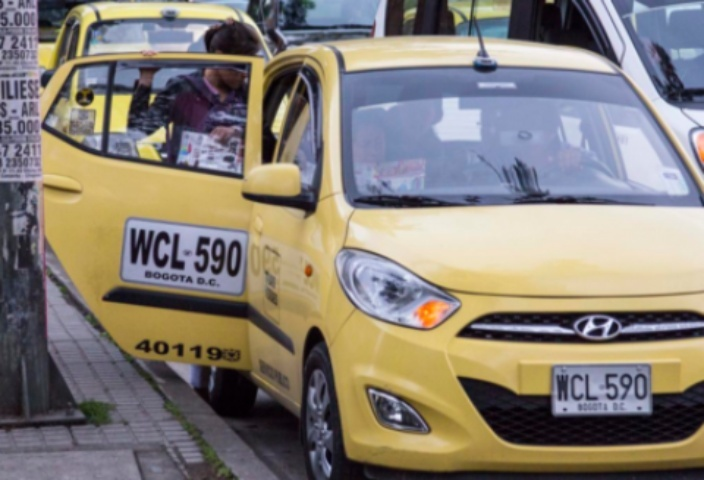taxi: (56, 33, 700, 480), (52, 3, 283, 141)
